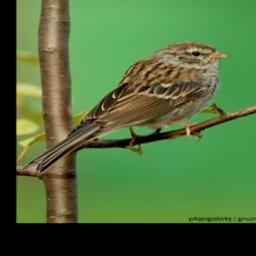Sparrow: (23, 40, 231, 176)
